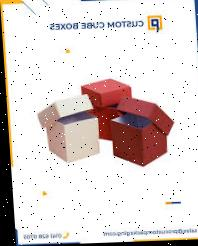cube: (108, 114, 166, 171), (45, 116, 98, 163)
